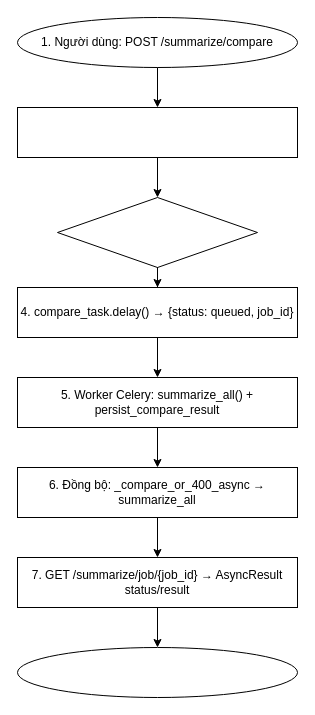
Image size: 315x715. Some labels were removed from this diagram. Here are the shapes that lost their labels. From the top down, the centre of each, then its label:
At (157,132): "2. _ensure_text() + gom settings".
At (157,232): "3. async_mode = true?".
At (157,672): "8. Trả payload so sánh hoặc trạng thái job".
